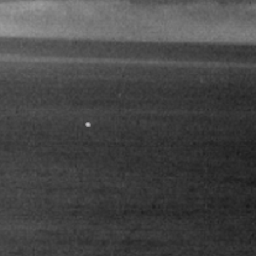Target: (84, 121, 92, 128)
